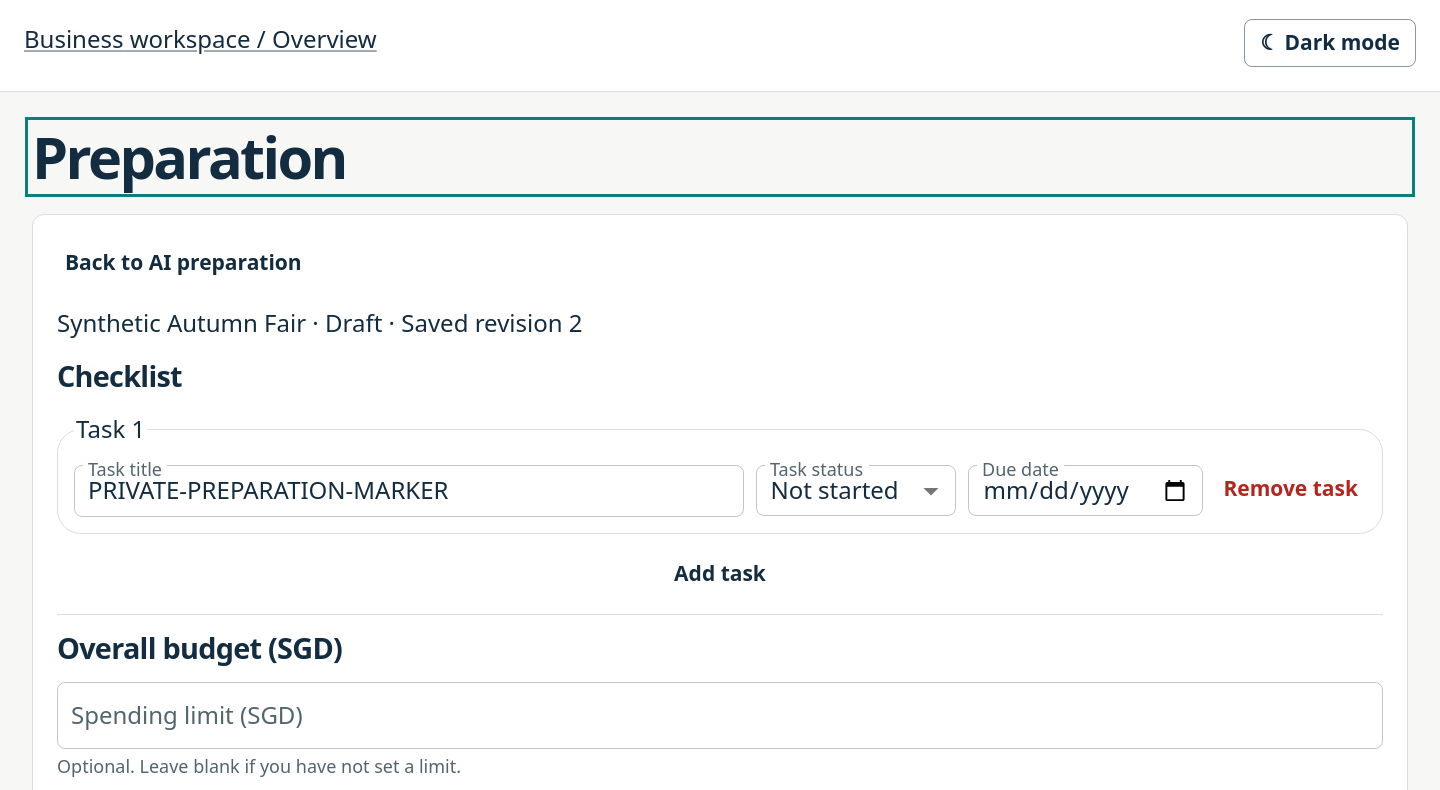
AC09 recoverable validation retains editable input and hides arbitrary server details
Check: the heading "Preparation" is shown, box [32,117,346,196]
Step 1. Replace the text in the text box labelled "Task title" with "PRIVATE-INVALID-DRAFT" → [409, 491], box [88,474,730,508]
(page scrolled)
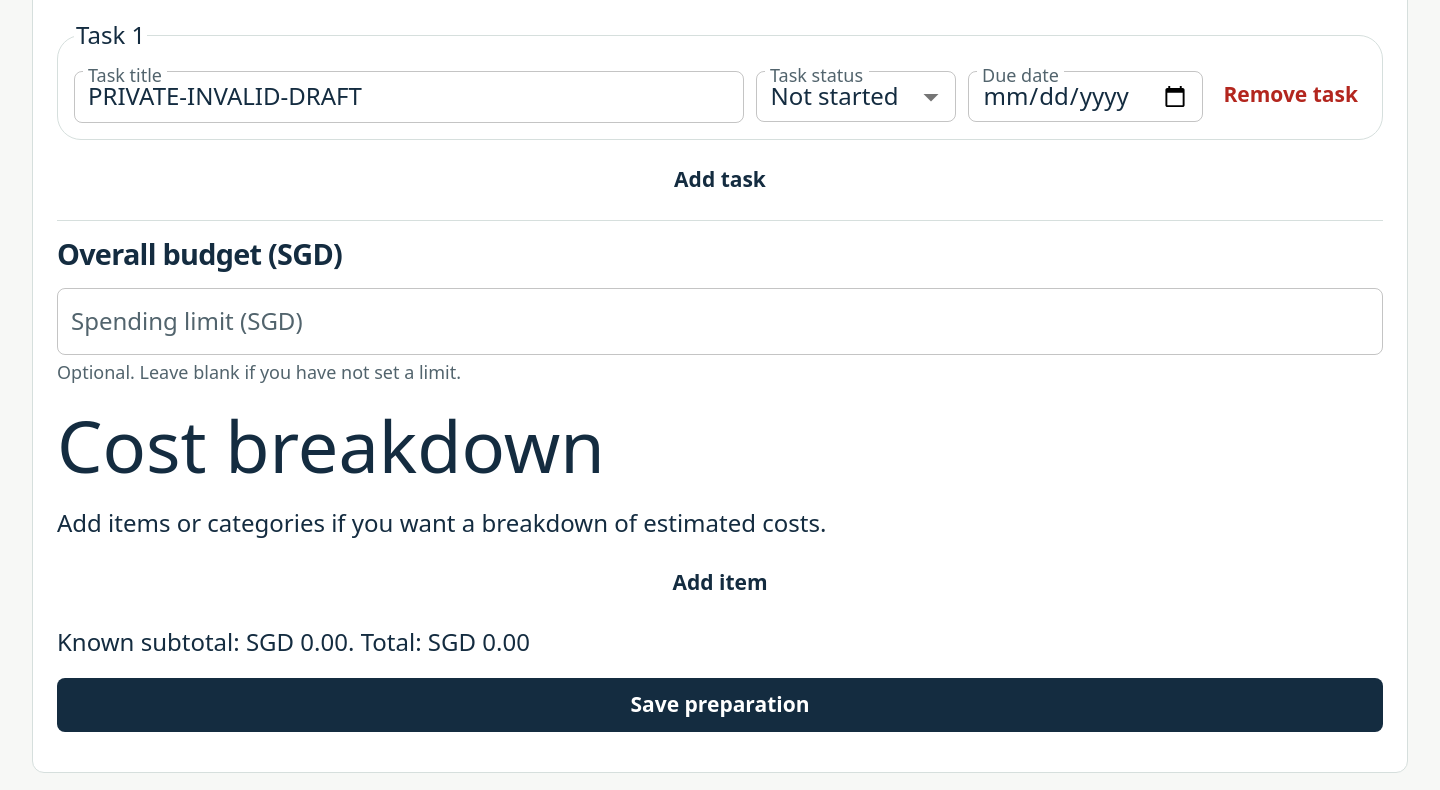
Step 2. Click the button "Save preparation" → [720, 705], box [57,678,1383,732]
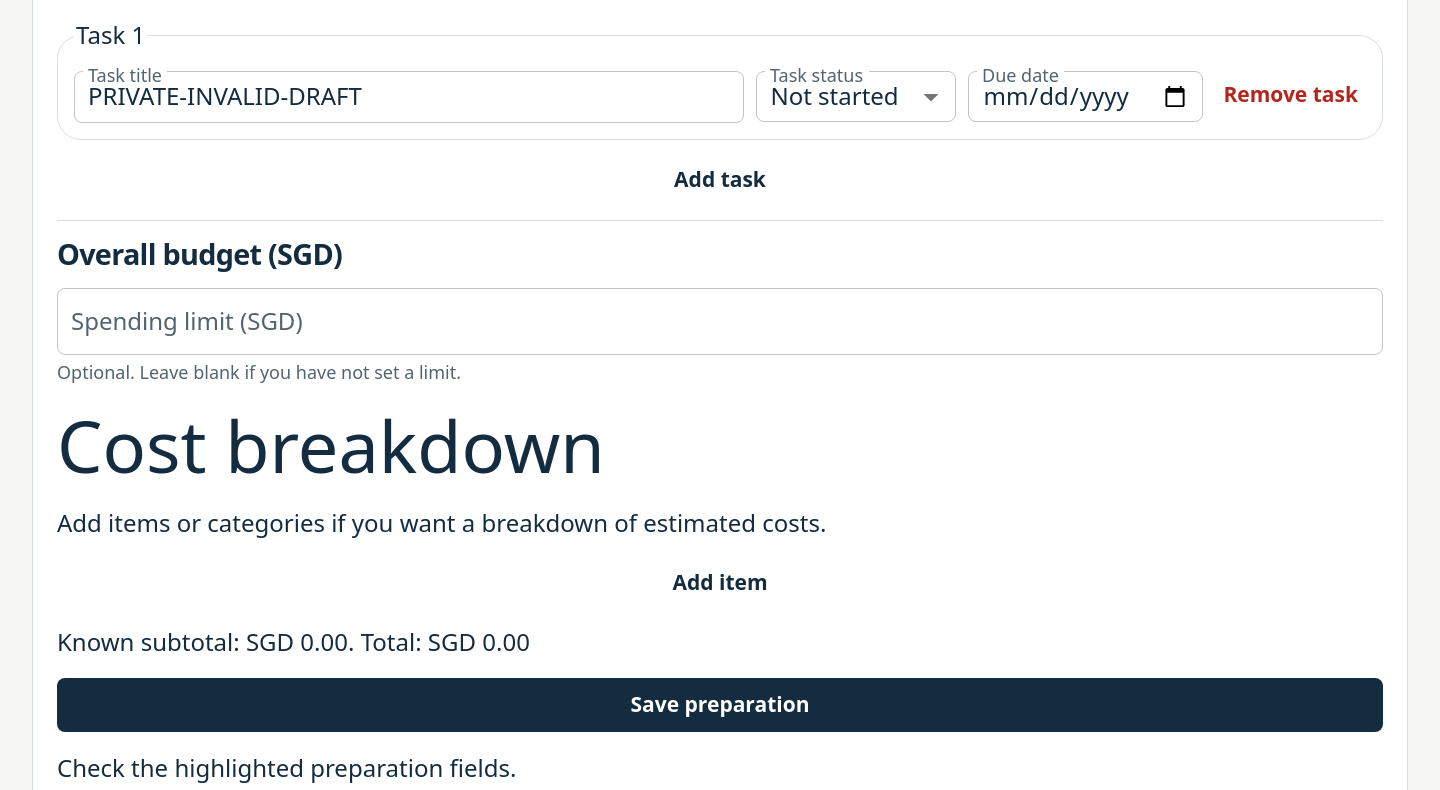
Check: the text "Check the highlighted preparation fields." is shown, box [57,750,516,784]
